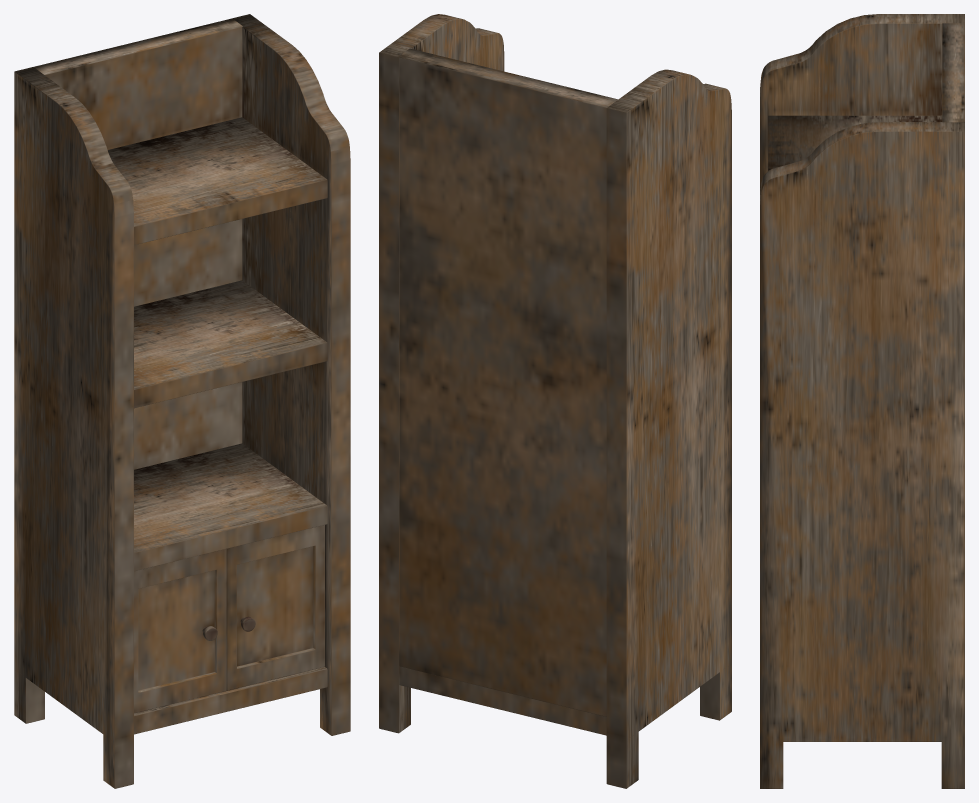
The picture shows the model from 3 angles, left to right: view 1: azimuth 30°, elevation 25°; view 2: azimuth 150°, elevation 25°; view 3: azimuth 270°, elevation 25°; orthographic projection. The views are drawn at different scales.
Visible parts, largest first — view 1: LACI; view 2: LACI; view 3: LACI.
Boxes of the visible parts, <box> form: LACI: <box>14,14,350,788</box>; LACI: <box>379,14,731,788</box>; LACI: <box>760,14,964,788</box>.
Bounding box in the file's own units: 2.72 × 7.08 × 2.
1 material, 1 textured.
